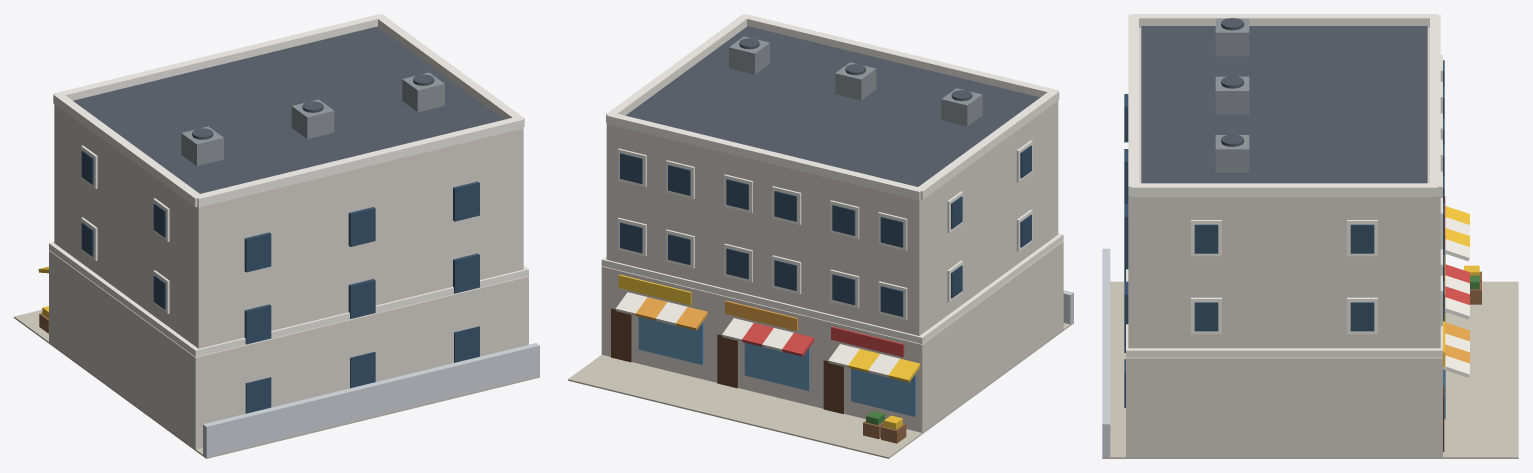
3 views of the same model, side by side, from view 1: azimuth 30°, elevation 25°; view 2: azimuth 150°, elevation 25°; view 3: azimuth 270°, elevation 25° (orthographic). The views are drawn at different scales.
Parts seen in each view (by area): view 1: block, shop_base, roof, parapet (×4), yard_wall, window_glass (×9), string_course, ac_unit_body (×3), ground; view 2: block, roof, shop_base, parapet (×4), ground, window_glass (×12), storefront (×3), string_course, ac_unit_body (×3), sign (×3), door (×3), awning_stripe; view 3: block, roof, shop_base, ground, parapet (×4), ac_unit_body (×3), string_course, window_glass (×4), window_frame (×4), yard_wall.
Part boxes in pixels (box(x1,y1,x2,y2)): block: box(54, 104, 523, 348); shop_base: box(49, 250, 528, 449); roof: box(73, 26, 503, 193); parapet (×4): box(53, 14, 524, 207); yard_wall: box(203, 343, 539, 457); window_glass (×9): box(244, 181, 479, 413); string_course: box(49, 242, 528, 356); ac_unit_body (×3): box(181, 72, 444, 165); ground: box(14, 310, 539, 458); block: box(606, 101, 1058, 335); roof: box(626, 26, 1040, 186); shop_base: box(601, 241, 1063, 432); parapet (×4): box(606, 14, 1059, 200); ground: box(568, 322, 1073, 458); window_glass (×12): box(620, 153, 903, 316); storefront (×3): box(638, 317, 916, 416); string_course: box(601, 233, 1063, 343); ac_unit_body (×3): box(729, 36, 982, 126); sign (×3): box(618, 274, 904, 357); door (×3): box(611, 308, 843, 414); awning_stripe: box(782, 333, 814, 356); block: box(1128, 27, 1440, 348); roof: box(1141, 26, 1427, 183); shop_base: box(1126, 357, 1442, 457); ground: box(1102, 281, 1518, 458); parapet (×4): box(1128, 14, 1440, 196); ac_unit_body (×3): box(1215, 18, 1249, 172); string_course: box(1126, 269, 1442, 357); window_glass (×4): box(1194, 224, 1374, 331); window_frame (×4): box(1191, 220, 1377, 334); yard_wall: box(1102, 248, 1110, 457).
Bounding box in the file's own units: 16 × 12.31 × 16.
